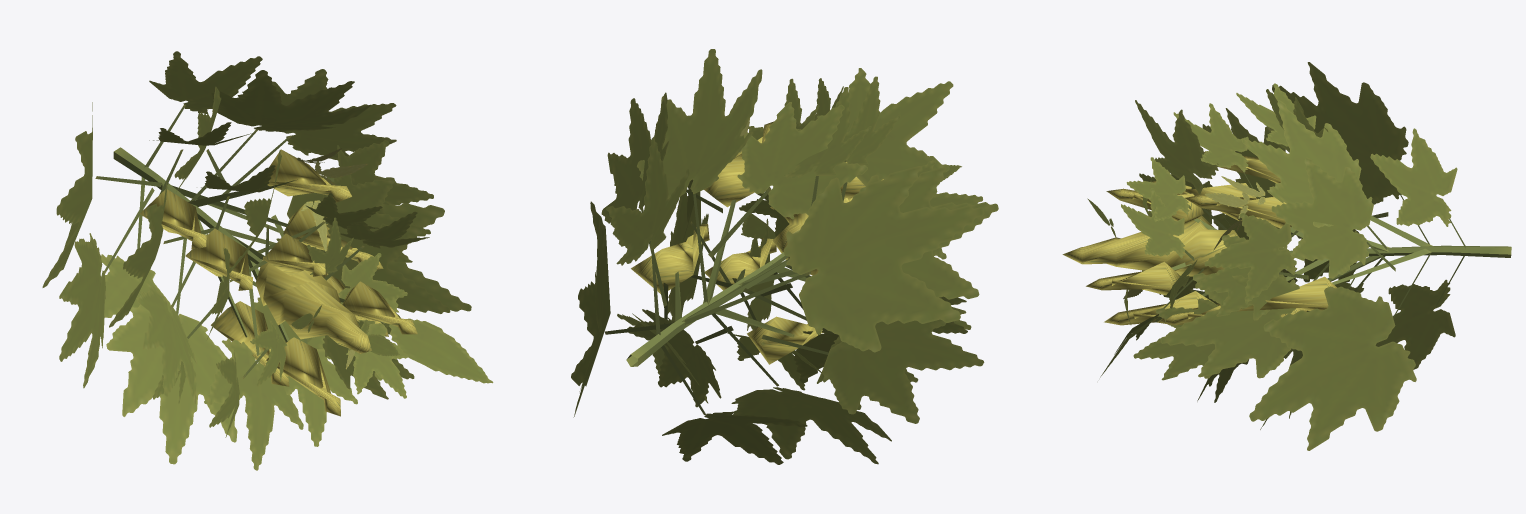
The model's file is p_gold_kush_flowering_c1_cards.obj.
The picture shows the model from 3 angles, left to right: view 1: azimuth 30°, elevation 25°; view 2: azimuth 150°, elevation 25°; view 3: azimuth 270°, elevation 25°; orthographic projection. The views are drawn at different scales.
Bounding box in the file's own units: 1.4 × 1.29 × 1.33.
1 material, 1 textured.
